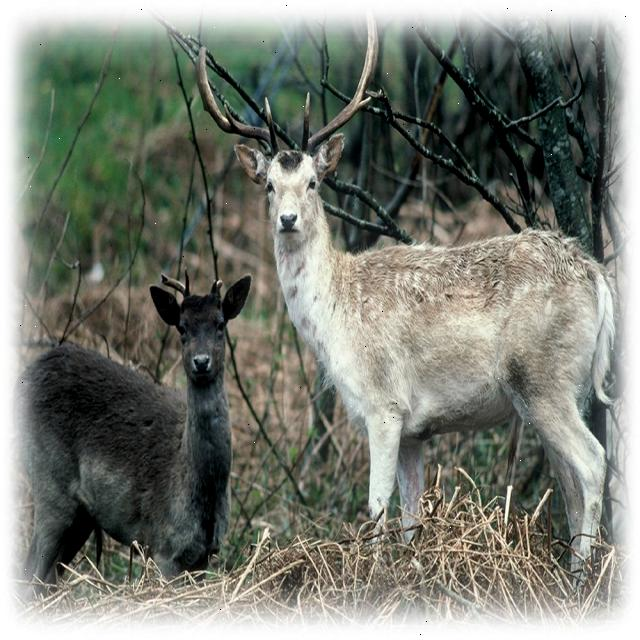deer: (176, 4, 392, 254), (143, 266, 250, 408)
